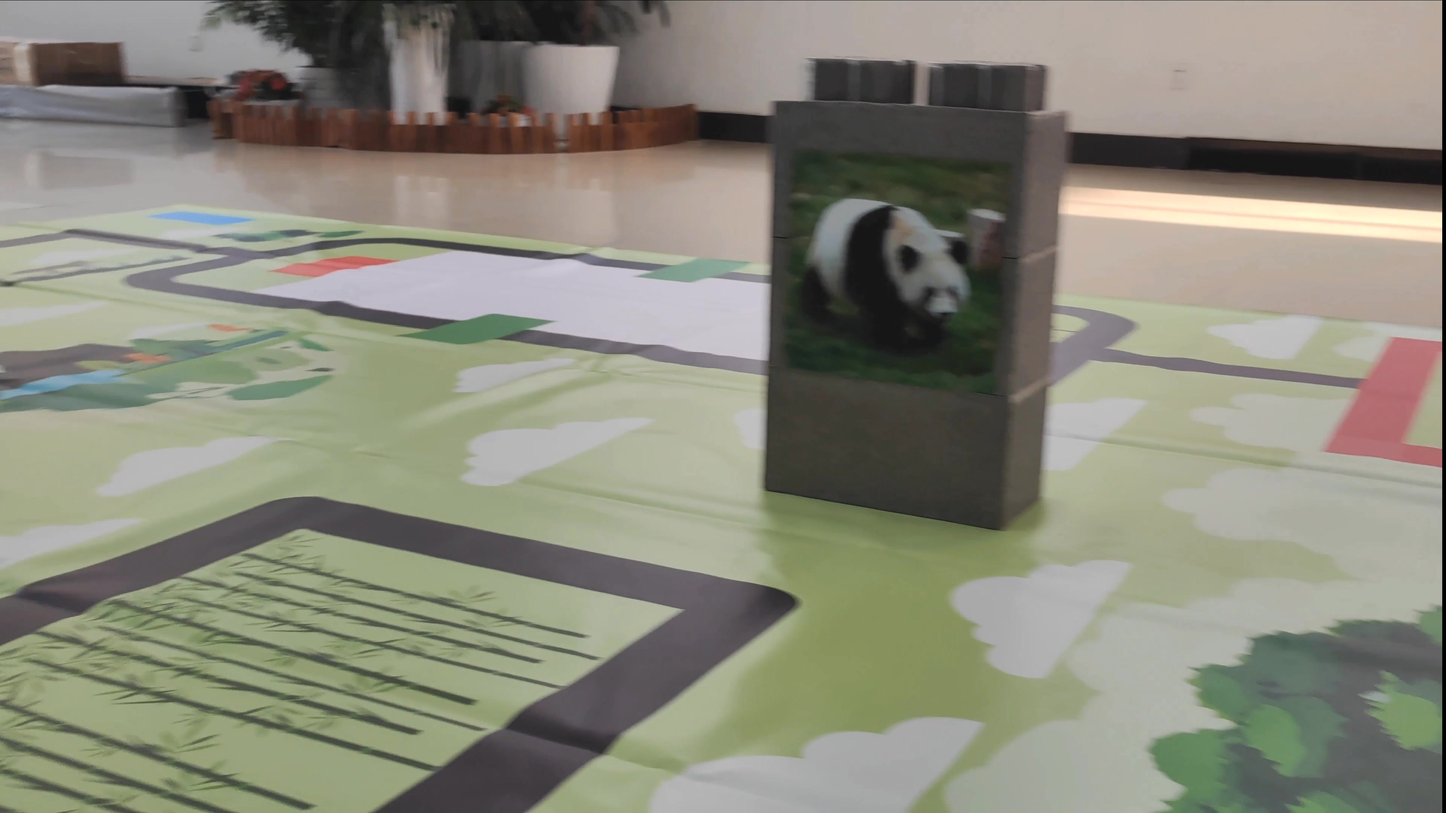panda: (790, 180, 979, 346)
